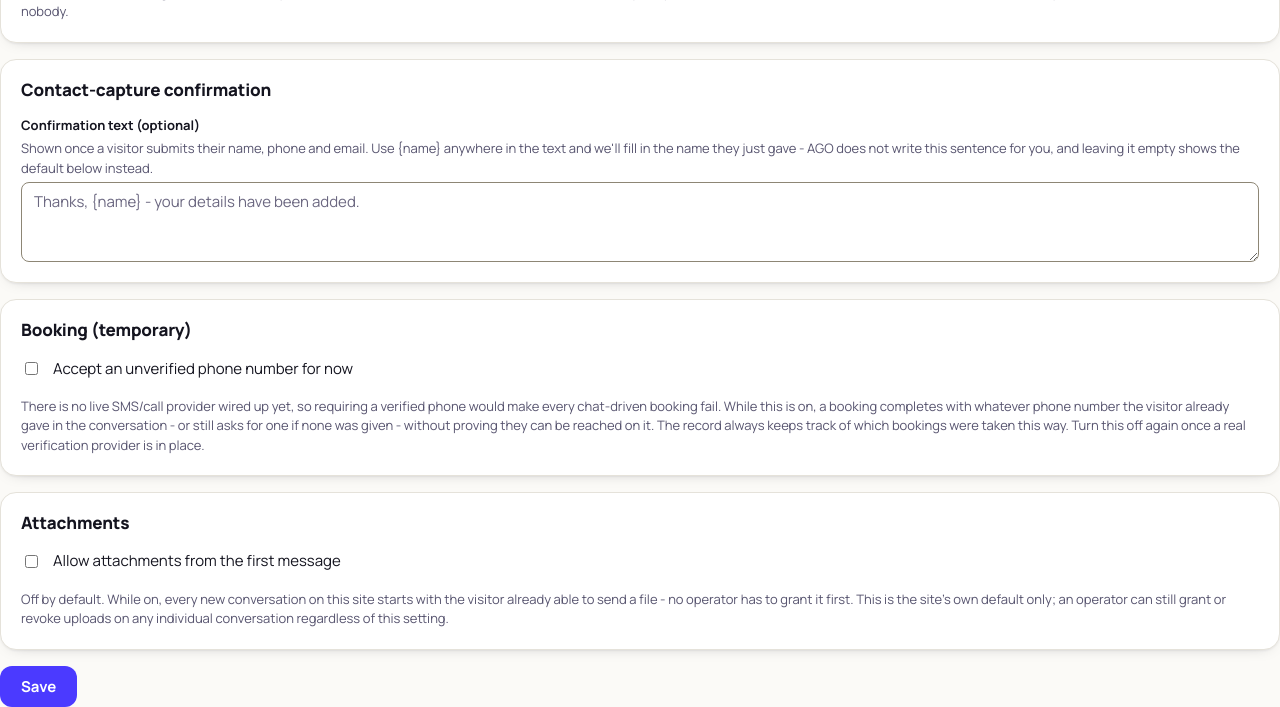
Test: the accept-unverified-phone-booking checkbox › reflects the server's saved setting back into the checkbox
This screenshot has width=1280, height=707.
(page scrolled)
Click the checkbox labelled "Accept an unverified phone number for now": (32, 369) [25,362,38,375]
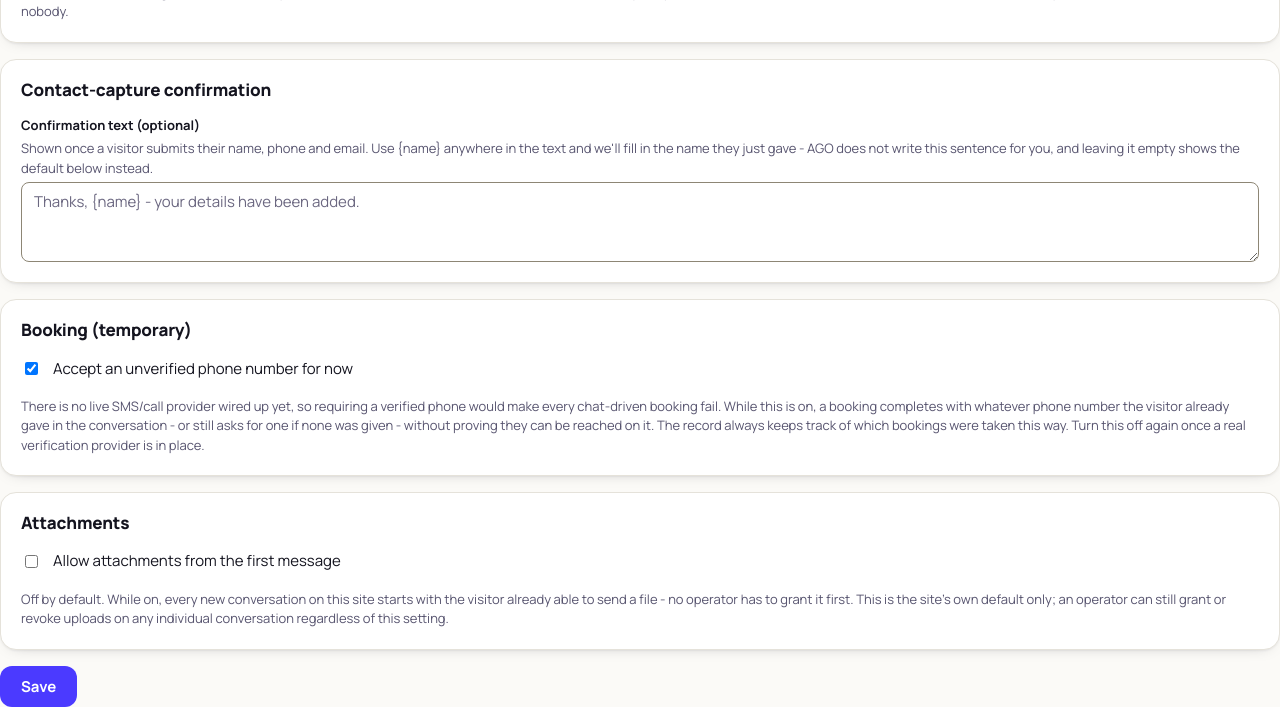
Click the submit button: (39, 686) [0,666,77,706]
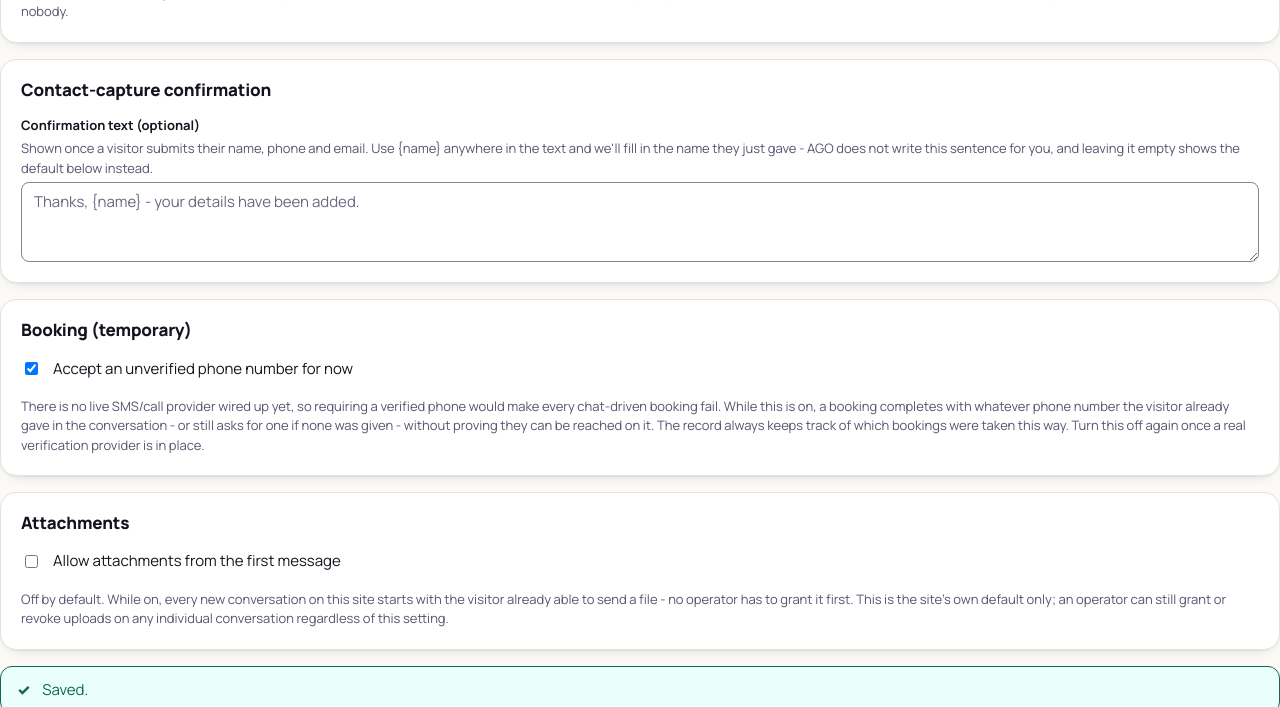
expect the checkbox labelled "Accept an unverified phone number for now" is checked: met, box [25,362,38,375]
expect the text "Saved." is shown: met, box [42,679,88,701]
